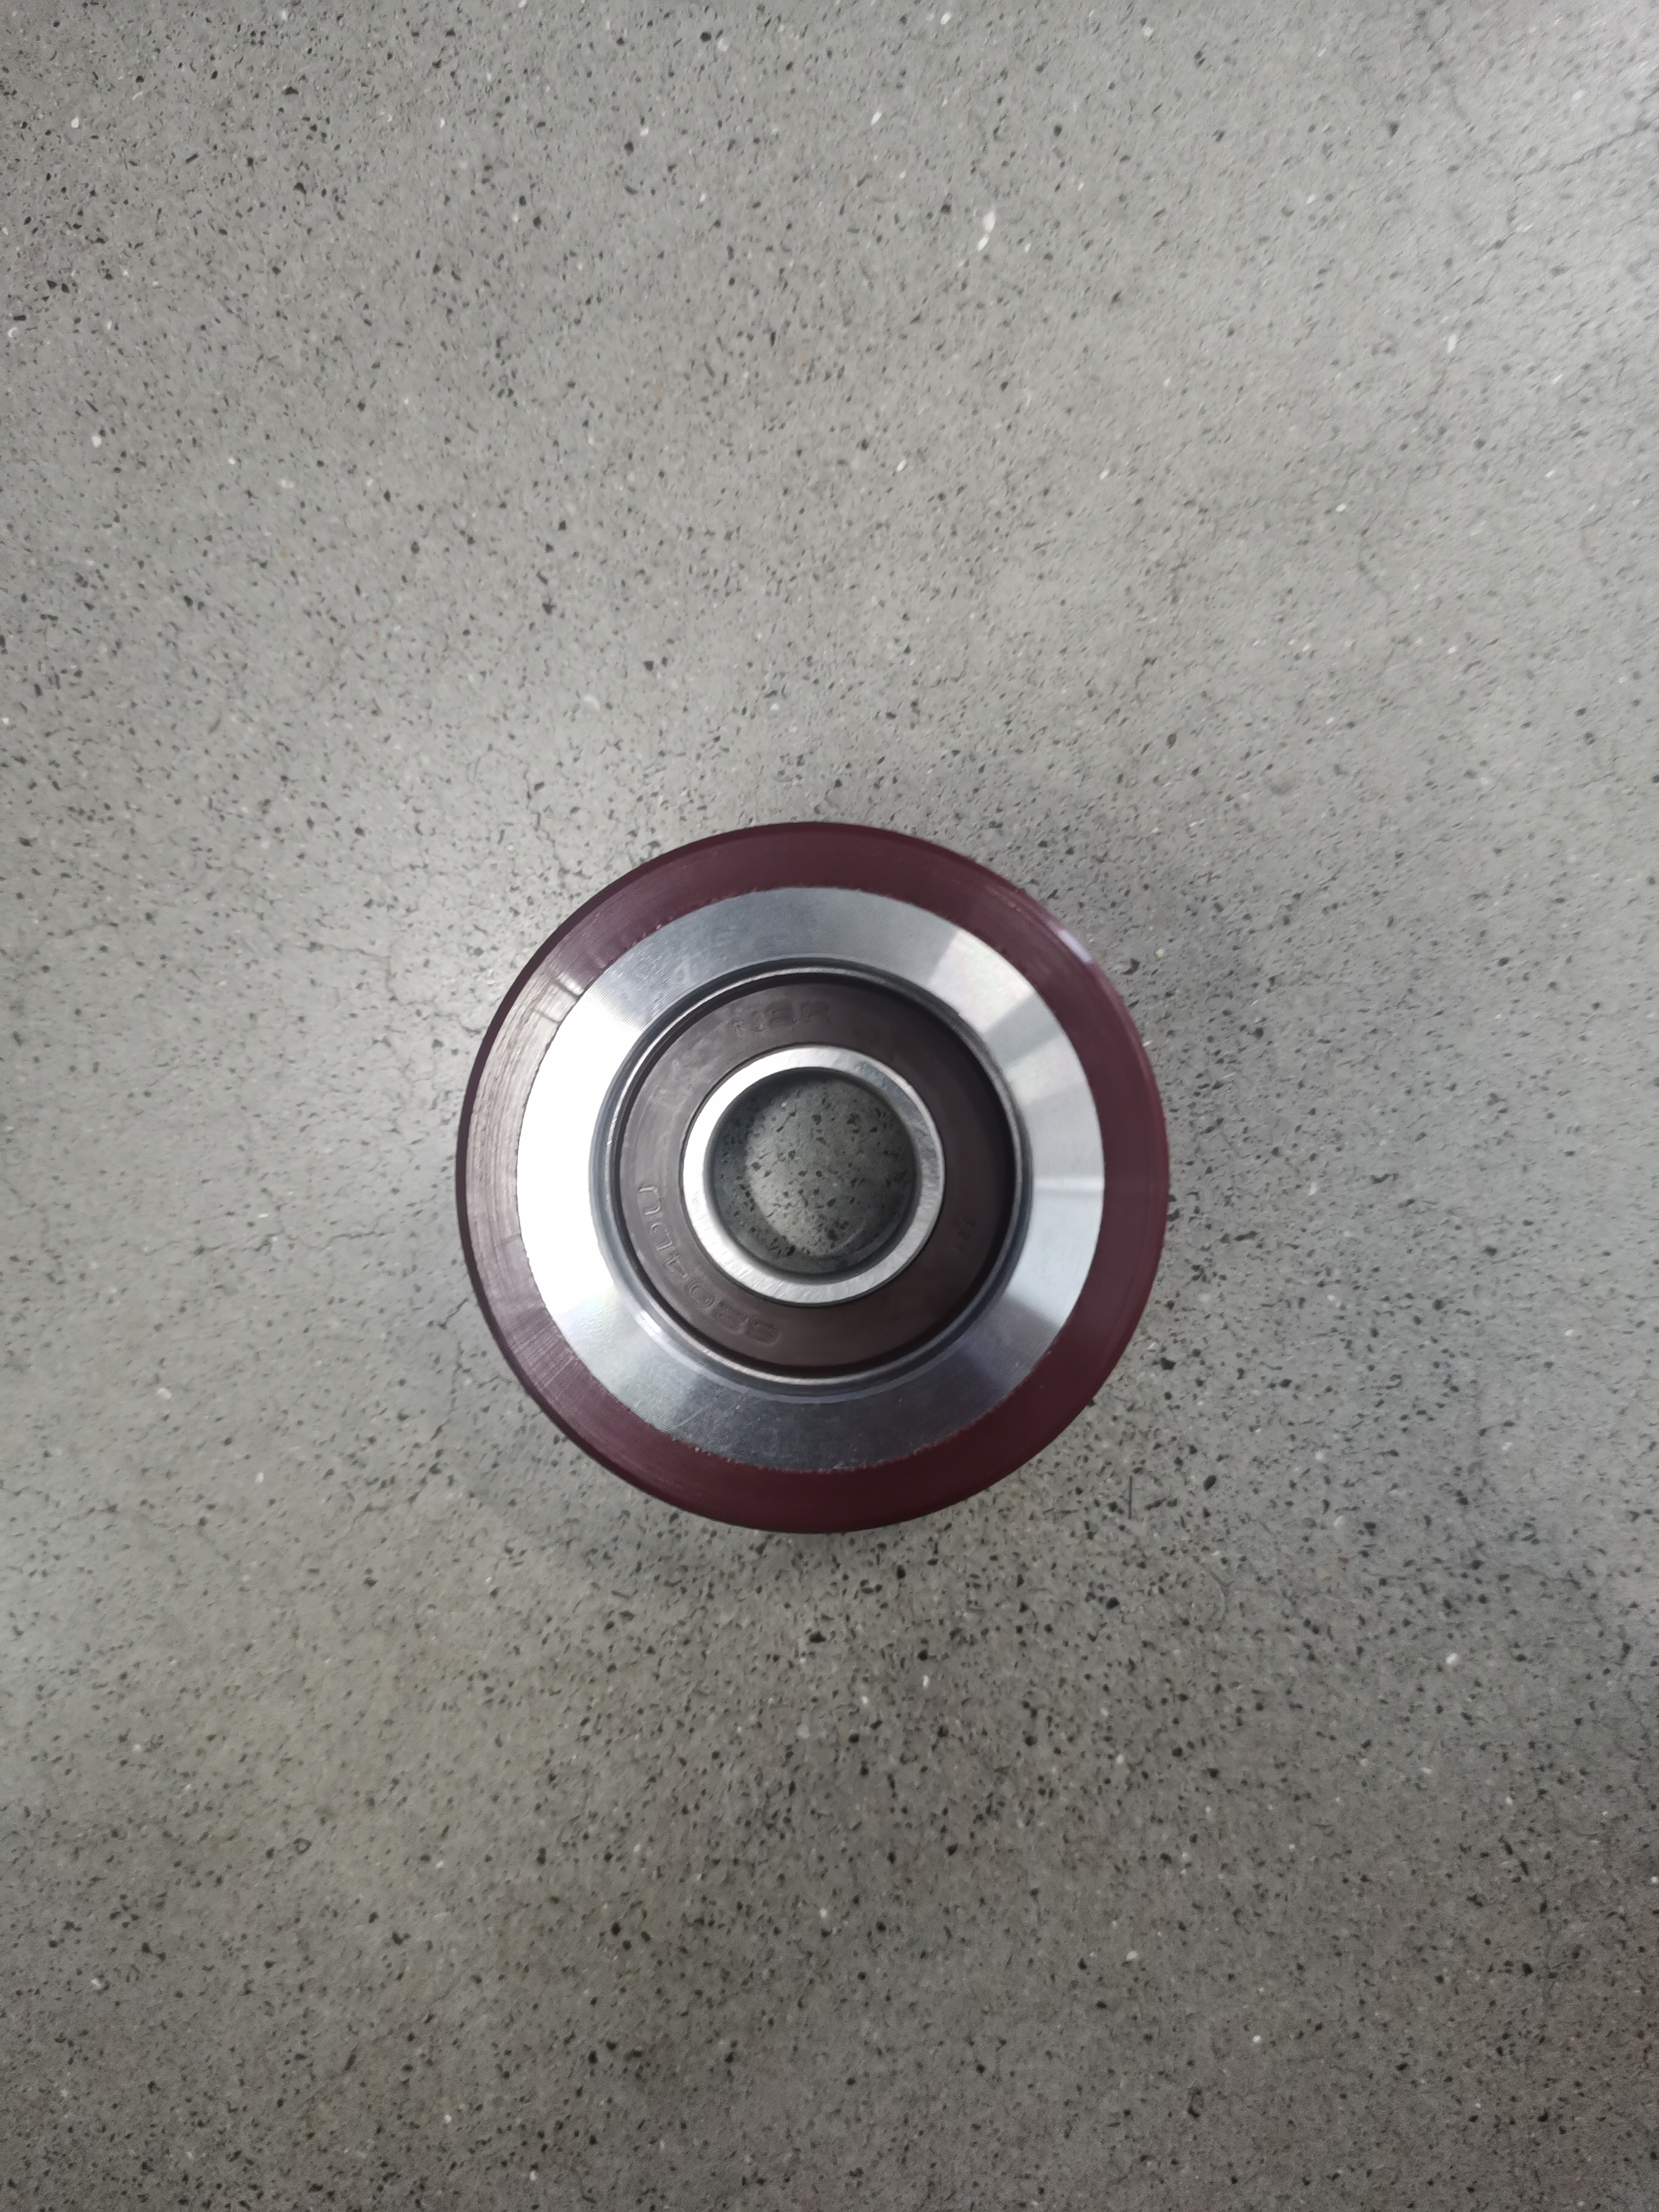good_wheel: (406, 791, 1262, 1562)
